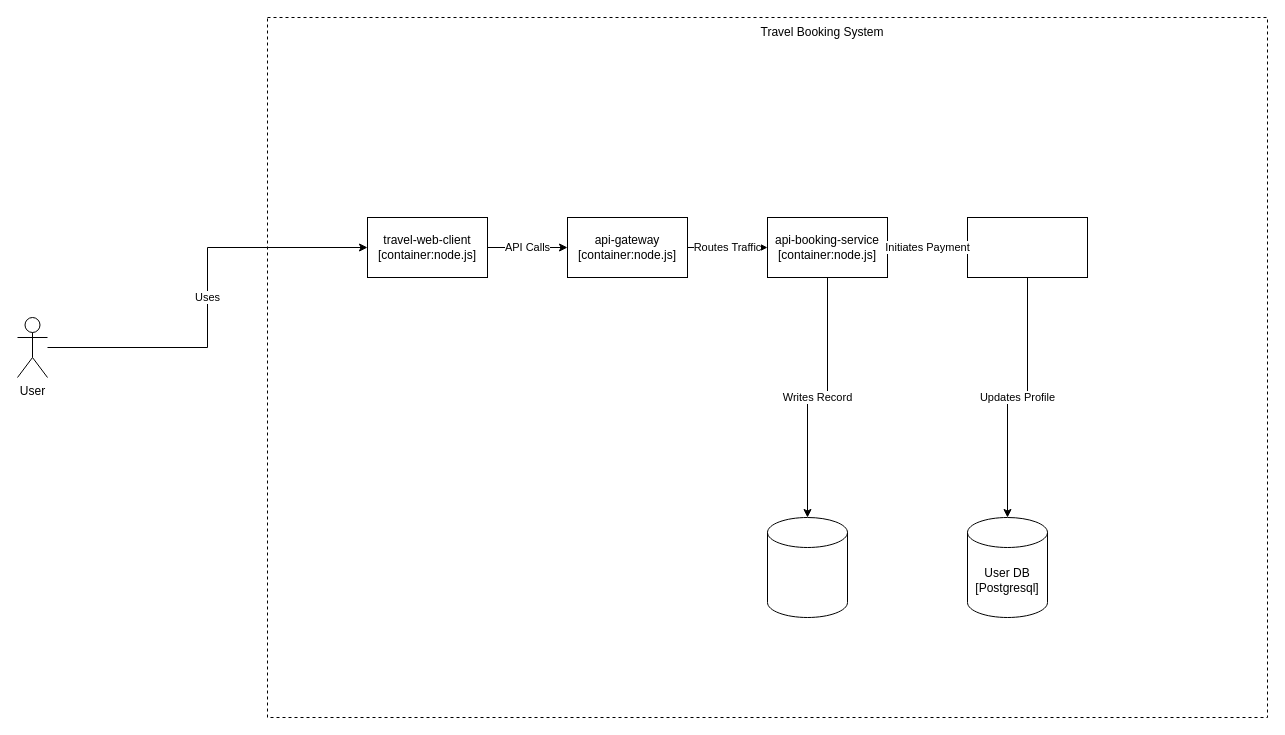
The diagram is 1285 pixels wide and 735 high, and some of its shapes have lost their labels. The shapes that lost their labels are listed below. From the top down, each one's box as (x1, y1, x2, y2) in pixels, then its label:
(966, 216, 1088, 278): api-payment-service [container:node.js]
(766, 516, 848, 618): Booking DB [Postgresql]
